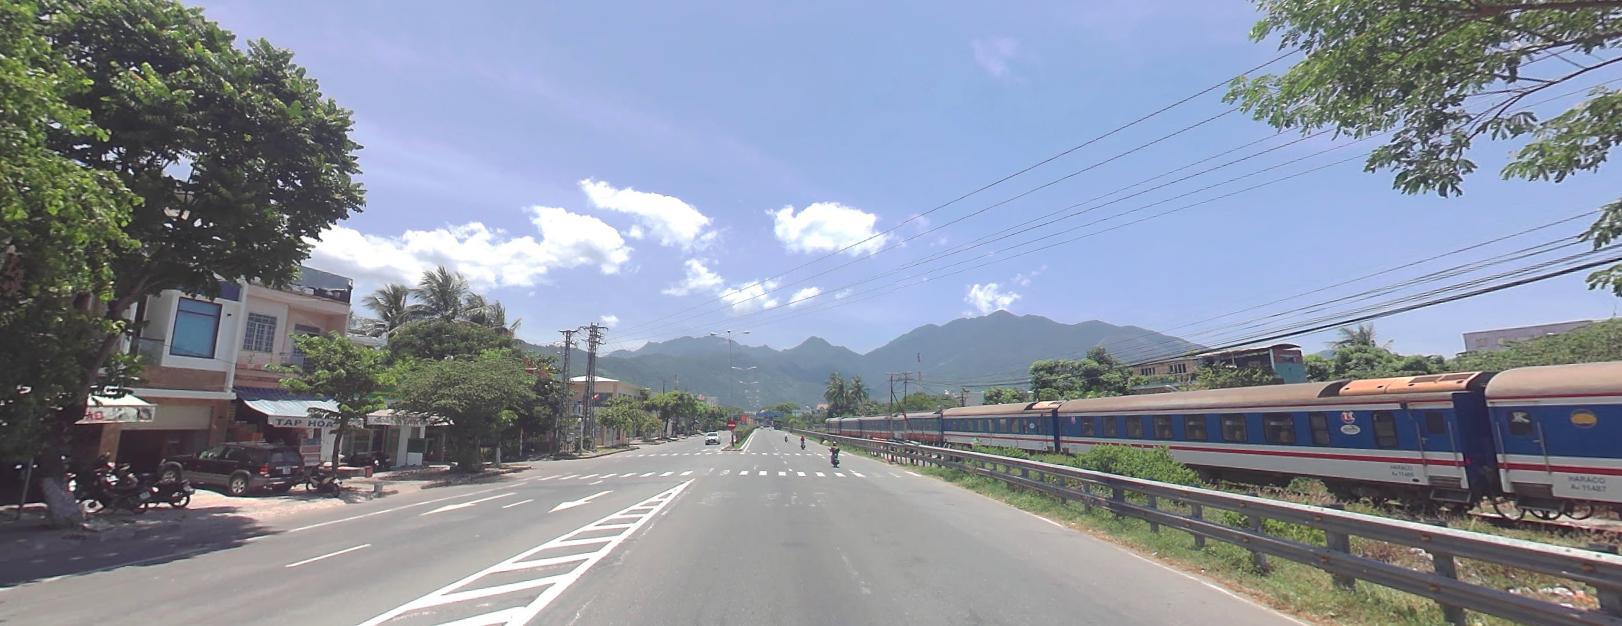Cam nguoc chieu: (726, 419, 735, 428)
